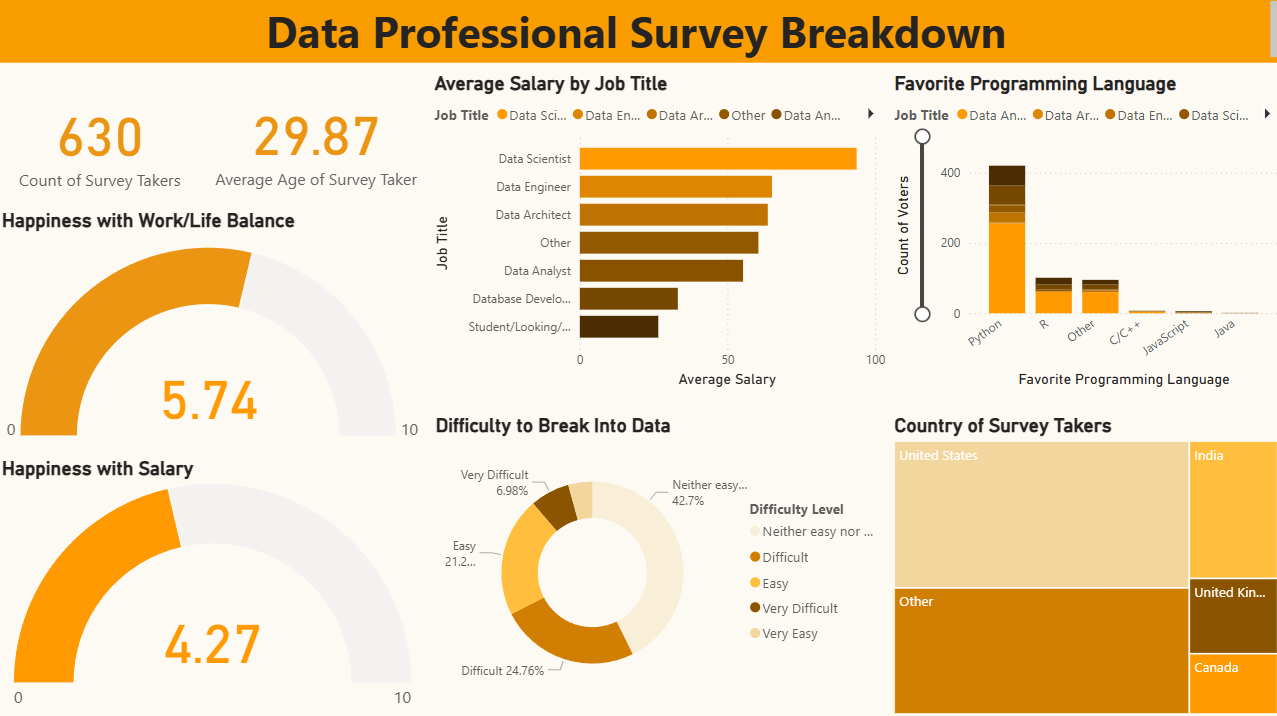

The page's visual inventory and layout, read from the dashboard file:
{"tool":"powerbi","page":{"name":"Page 1","canvas":[1280,720],"ordinal":0},"visuals":[{"type":"textbox","box":[0,0,1280,66.2],"z":0},{"type":"card","fields":{"Values":["CountNonNull(Data Professional Survey.Unique ID)"]},"box":[0,75,205,140],"z":1000},{"type":"card","fields":{"Values":["Avg(Data Professional Survey.Q10 - Current Age)"]},"box":[205,75,225,137.5],"z":2000},{"type":"barChart","title":"Average Salary by Job Title","fields":{"Category":["Data Professional Survey.Q1 - Which Title Best Fits your Current Role?"],"Y":["Avg(Data Professional Survey.Average Salary)"],"Series":["Data Professional Survey.Q1 - Which Title Best Fits your Current Role?"]},"box":[430,75.7,458.6,318.6],"z":3000},{"type":"columnChart","title":"Favorite Programming Language","fields":{"Category":["Data Professional Survey.Q5 - Favorite Programming Language"],"Y":["CountNonNull(Data Professional Survey.Unique ID)"],"Series":["Data Professional Survey.Q1 - Which Title Best Fits your Current Role?"]},"box":[888.6,75.7,391.4,318.6],"z":4000},{"type":"treemap","title":"Country of Survey Takers","fields":{"Group":["Data Professional Survey.Q11 - Which Country do you live in?.1"],"Values":["CountNonNull(Data Professional Survey.Q11 - Which Country do you live in?.1)"]},"box":[888.6,417.1,391.4,302.9],"z":5000},{"type":"gauge","title":"Happiness with Work/Life Balance","fields":{"Y":["Avg(Data Professional Survey.Q6 - How Happy are you in your Current Position with the following? (Work/Life Balance))"],"MinValue":["Min(Data Professional Survey.Q6 - How Happy are you in your Current Position with the following? (Work/Life Balance))"],"MaxValue":["Max(Data Professional Survey.Q6 - How Happy are you in your Current Position with the following? (Work/Life Balance))"]},"box":[0,212.7,429.4,246.2],"z":6000},{"type":"gauge","title":"Happiness with Salary","fields":{"Y":["Avg(Data Professional Survey.Q6 - How Happy are you in your Current Position with the following? (Salary))"],"MinValue":["Min(Data Professional Survey.Q6 - How Happy are you in your Current Position with the following? (Salary))1"],"MaxValue":["Max(Data Professional Survey.Q6 - How Happy are you in your Current Position with the following? (Salary))2"]},"box":[0,458.9,429.4,260.9],"z":7000},{"type":"donutChart","title":"Difficulty to Break Into Data","fields":{"Category":["Data Professional Survey.Q7 - How difficult was it for you to break into Data?"],"Y":["CountNonNull(Data Professional Survey.Q7 - How difficult was it for you to break into Data?)"]},"box":[431.4,417.1,457.1,292.9],"z":8000}]}

Visuals, with their boxes in screenshot pixels (x1, y1, x2, y2), scaled from the page's 1280x720 canvas onto the 1277x716 screenshot:
textbox: (left=0, top=0, right=1276, bottom=66)
card - CountNonNull(Data Professional Survey.Unique ID): (left=0, top=75, right=205, bottom=214)
card - Avg(Data Professional Survey.Q10 - Current Age): (left=205, top=75, right=429, bottom=211)
"Average Salary by Job Title" barChart: (left=429, top=75, right=887, bottom=392)
"Favorite Programming Language" columnChart: (left=887, top=75, right=1276, bottom=392)
"Country of Survey Takers" treemap: (left=887, top=415, right=1276, bottom=715)
"Happiness with Work/Life Balance" gauge: (left=0, top=212, right=428, bottom=456)
"Happiness with Salary" gauge: (left=0, top=456, right=428, bottom=715)
"Difficulty to Break Into Data" donutChart: (left=430, top=415, right=886, bottom=706)
